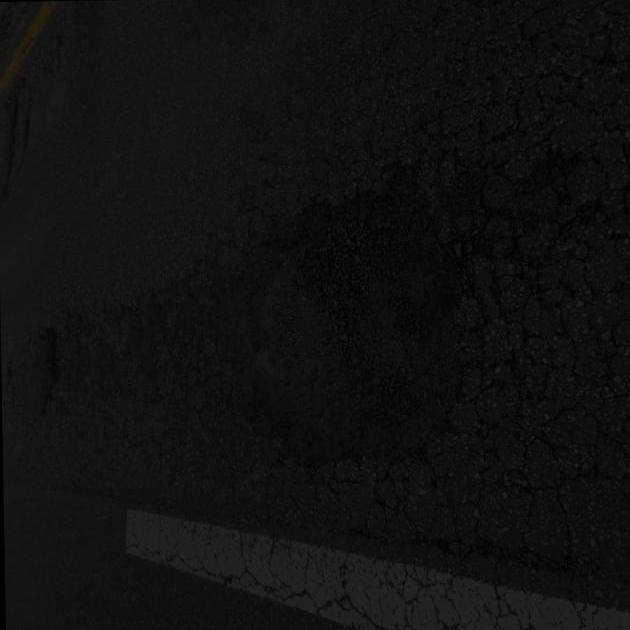pothole: (163, 98, 493, 519)
